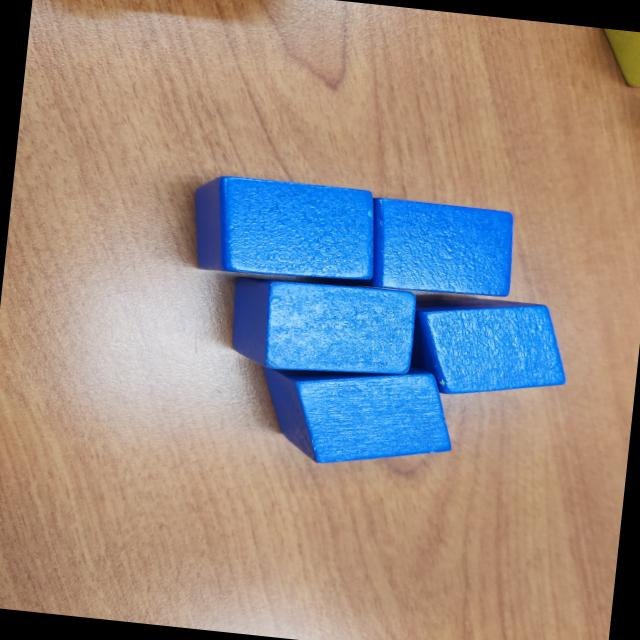blue: (252, 354, 464, 478), (181, 172, 386, 288), (223, 271, 422, 383), (408, 290, 576, 408), (366, 196, 520, 304)
yellow: (590, 27, 640, 92)
